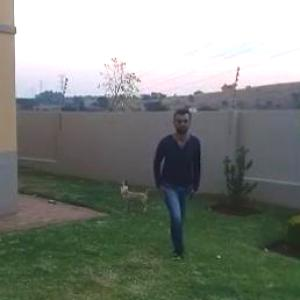follow: (148, 101, 200, 261)
